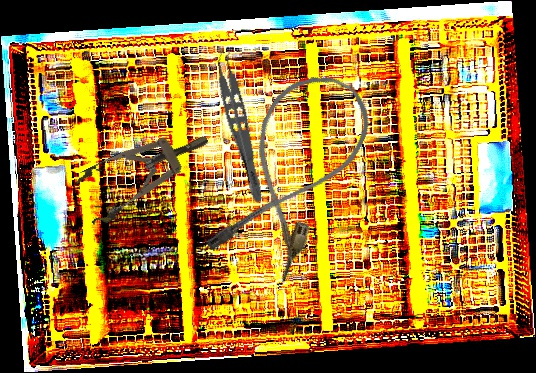Cannula: (198, 57, 384, 289)
Speculum: (69, 114, 221, 229)
Tissue Forceps: (208, 47, 277, 204)
